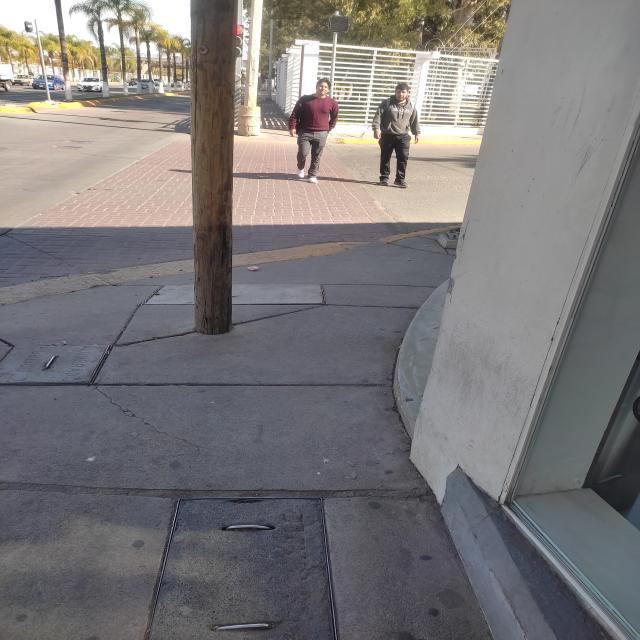3: (360, 74, 432, 198), (276, 74, 350, 190)
Auto: (67, 74, 115, 100), (30, 70, 72, 94), (132, 76, 158, 93)
